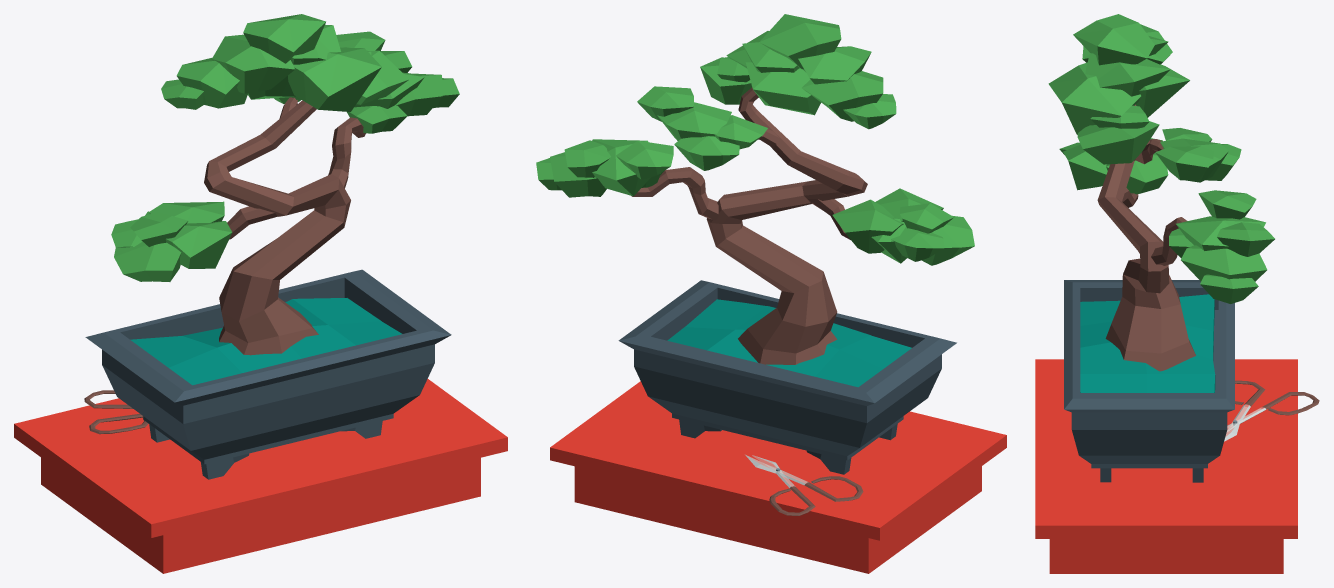
Rendered from bonsai.glb.
3 views of the same model, side by side, from view 1: azimuth 30°, elevation 25°; view 2: azimuth 150°, elevation 25°; view 3: azimuth 270°, elevation 25° (orthographic). The views are drawn at different scales.
Parts seen in each view (by area): view 1: group430673059; view 2: group430673059; view 3: group430673059.
Part boxes in pixels (x1,y1,x2,y2): group430673059: [14, 14, 507, 573]; group430673059: [536, 14, 1006, 573]; group430673059: [1035, 14, 1319, 573].
Size of the model in its own units: 1.53 by 1.78 by 0.9743.
2 materials, 2 textured.
